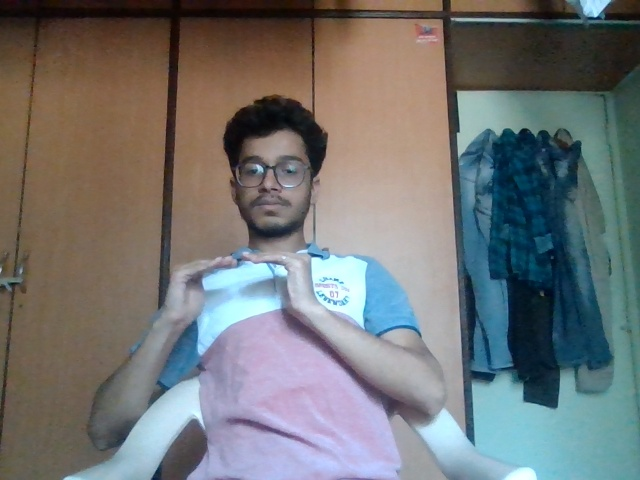afternoon: (156, 249, 359, 347)
